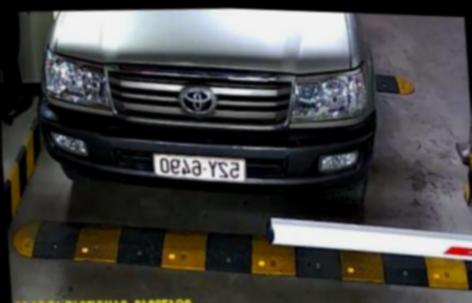License_Plate: (146, 147, 249, 188)
